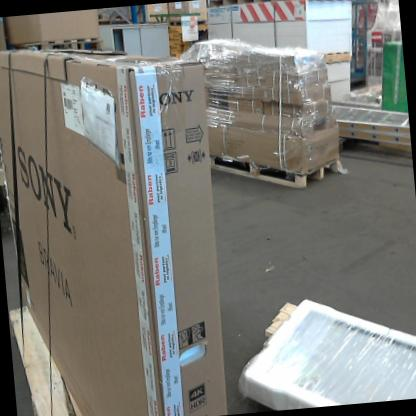pallet: (9, 294, 113, 416), (200, 136, 359, 199), (208, 0, 365, 17), (24, 27, 106, 58), (168, 15, 198, 39)
stillage: (340, 0, 375, 83)
